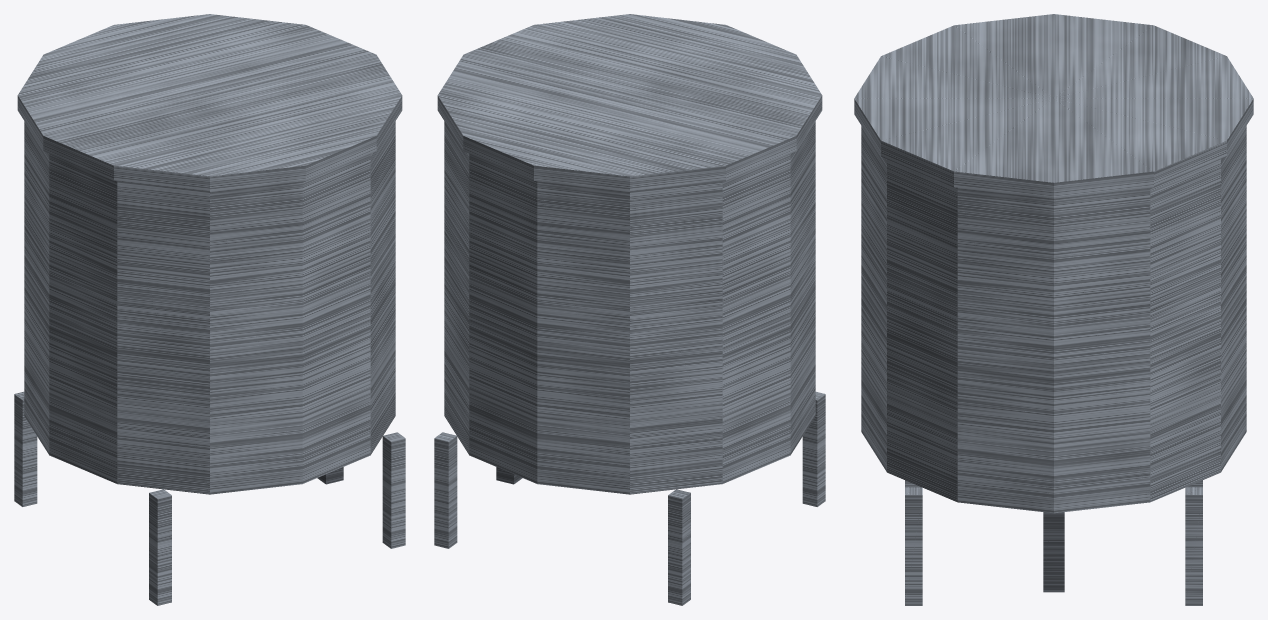
The model's file is water_tank.fbx.
3 renders of one model, left to right at view 1: azimuth 30°, elevation 25°; view 2: azimuth 150°, elevation 25°; view 3: azimuth 270°, elevation 25°, orthographic. The views are drawn at different scales.
Parts seen in each view (by area): view 1: water_tank; view 2: water_tank; view 3: water_tank.
Boxes of the visible parts, box(x1,y1,x2,y2) form: water_tank: box(14, 14, 405, 605); water_tank: box(434, 14, 825, 605); water_tank: box(854, 14, 1253, 605).
Bounding box in the file's own units: 114 × 140 × 114.
